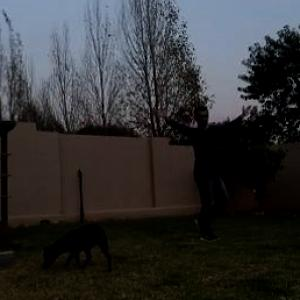takeoff: (133, 102, 257, 238)
